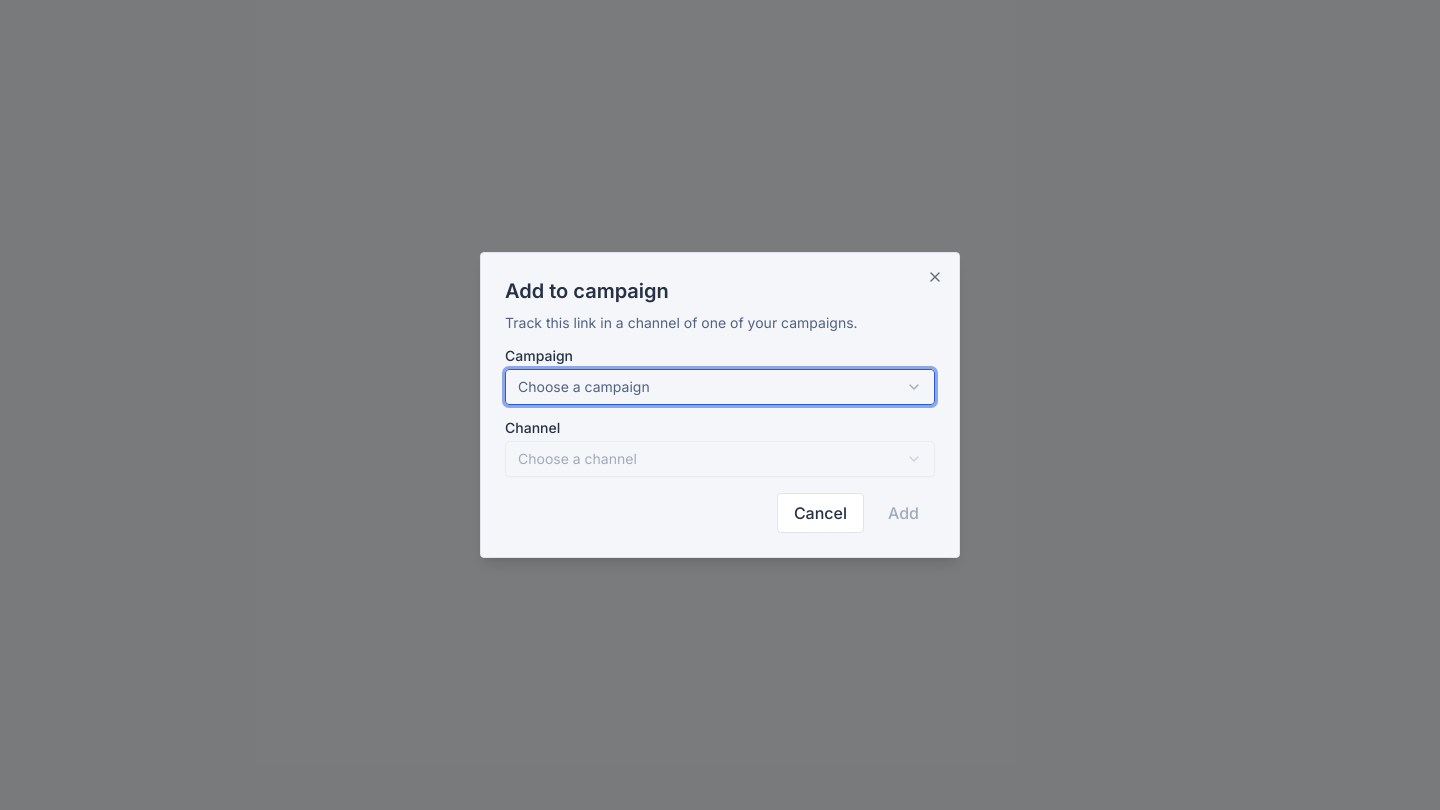
Test: AddToCampaignDialog › says when the campaign has no channels and keeps Add disabled
This screenshot has width=1440, height=810.
Click the dropdown labelled "campaign" at (584, 386), box [505,369,935,405]
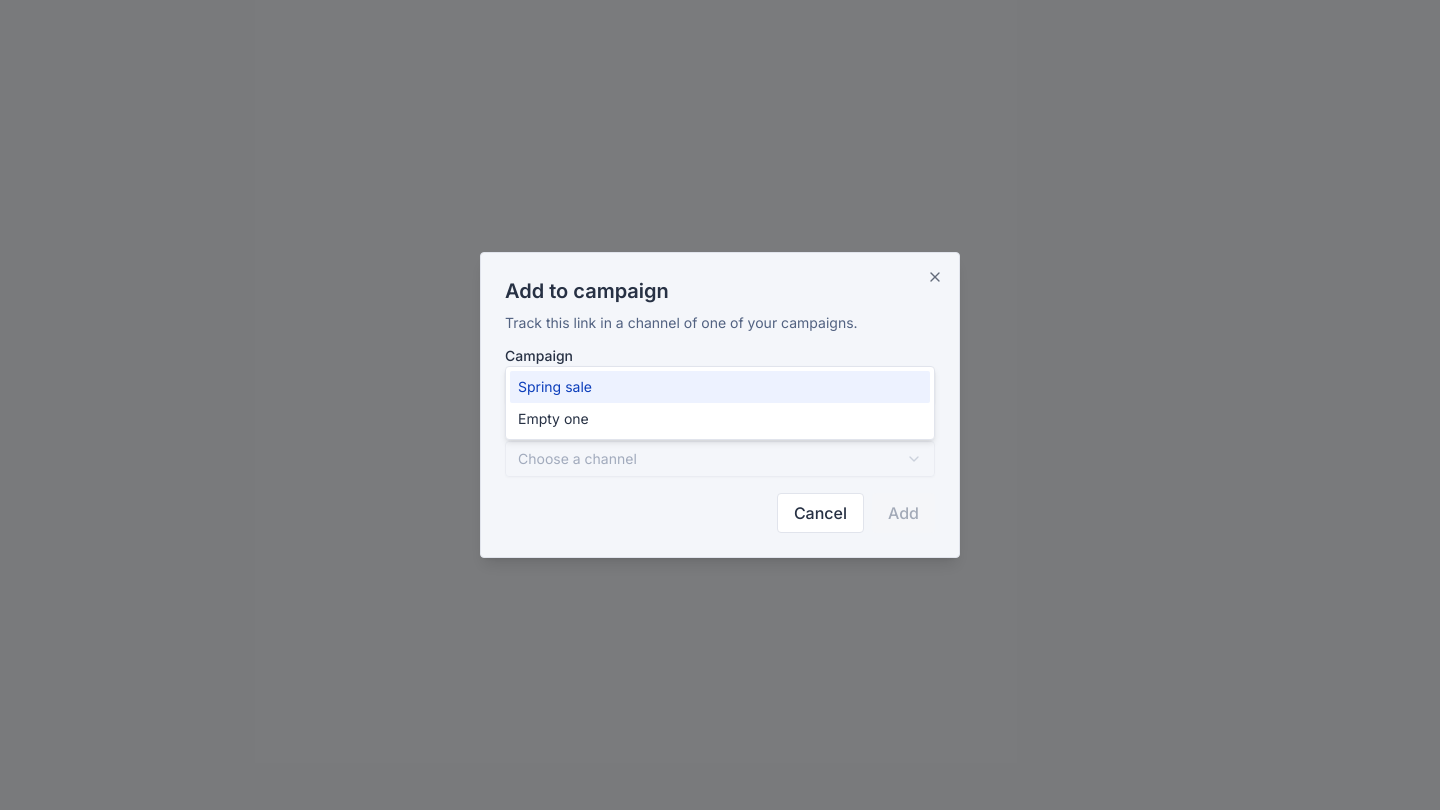
Click the option "Empty one" at (553, 418), box [518,410,589,427]
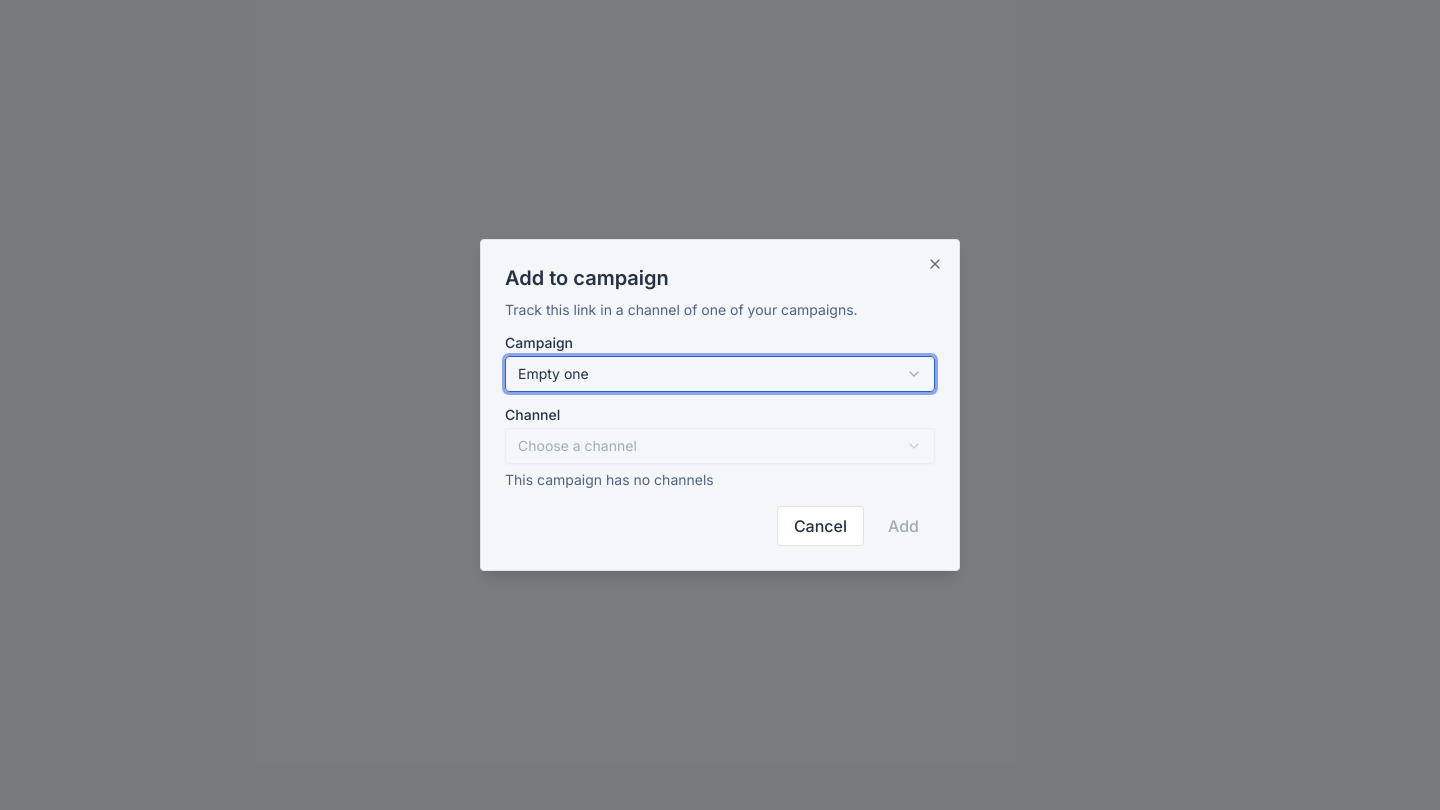
Expected: the button "Add" is disabled, [872,506,935,546]
Now the text "This campaign has no channels" is shown, box [505,471,714,488]
